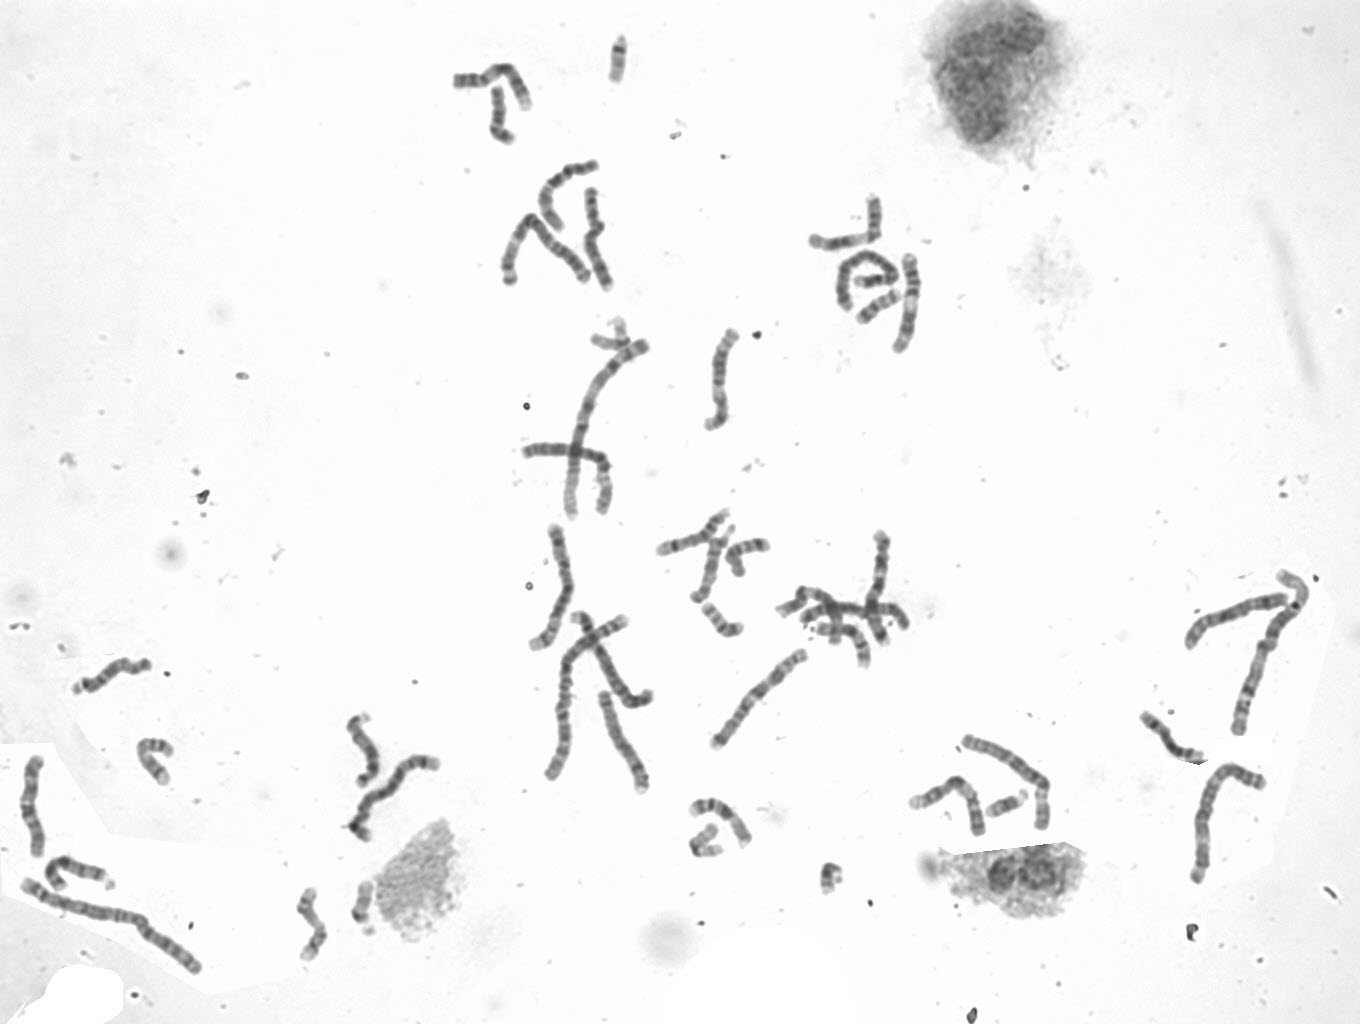chromosomes: (16, 874, 207, 977), (563, 330, 660, 521), (1223, 561, 1320, 740), (534, 613, 631, 790), (712, 645, 816, 750), (1190, 756, 1271, 890), (482, 209, 597, 301), (345, 750, 447, 851), (568, 606, 657, 719), (958, 733, 1057, 833), (518, 520, 576, 664), (517, 443, 624, 520), (1175, 587, 1292, 651), (598, 688, 661, 796), (443, 53, 544, 119), (903, 766, 988, 844), (528, 153, 607, 236), (803, 190, 888, 255), (827, 248, 902, 321), (1139, 705, 1215, 776), (773, 580, 851, 649), (799, 600, 924, 643), (693, 325, 742, 435), (885, 244, 928, 356), (65, 651, 155, 703), (861, 527, 898, 656), (649, 507, 732, 563), (581, 184, 621, 297), (688, 523, 740, 608), (808, 620, 877, 682), (689, 796, 759, 855), (341, 701, 381, 799), (42, 854, 114, 900), (851, 280, 907, 336), (484, 80, 525, 155), (294, 881, 330, 965), (23, 752, 49, 859), (585, 307, 638, 356), (349, 878, 387, 945), (138, 733, 182, 790), (722, 535, 775, 582), (602, 31, 634, 97), (684, 820, 731, 859), (699, 605, 751, 640), (979, 787, 1033, 822), (815, 861, 847, 900)
